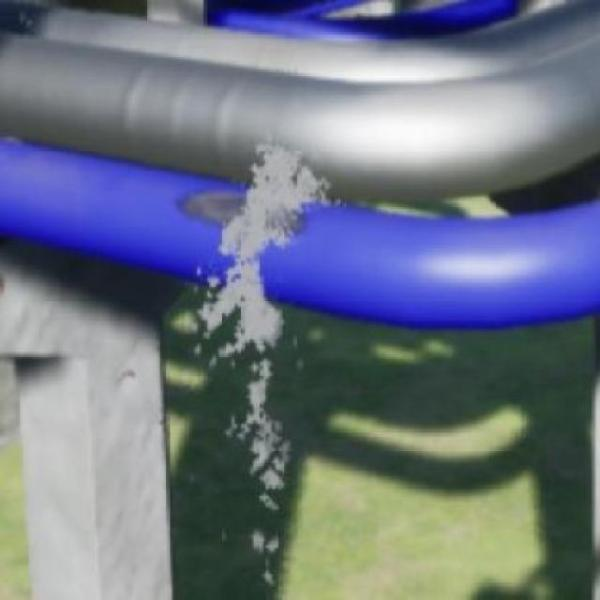gas: (137, 80, 369, 433)
